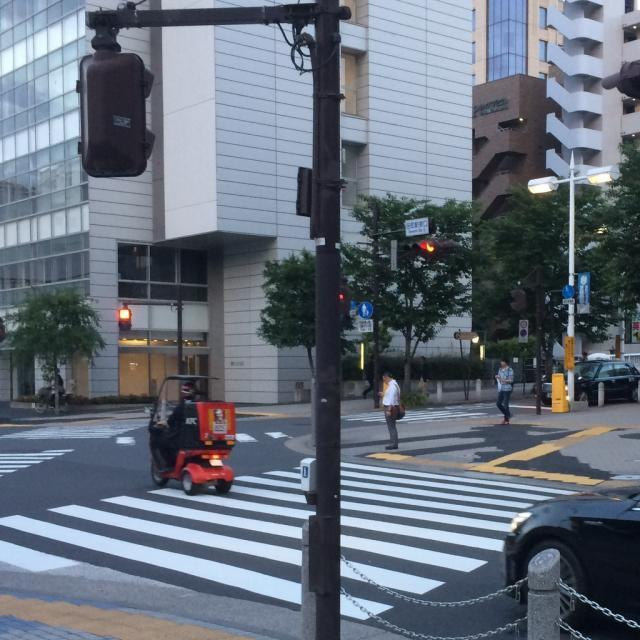traffic light: (402, 239, 460, 256), (119, 306, 134, 332)
